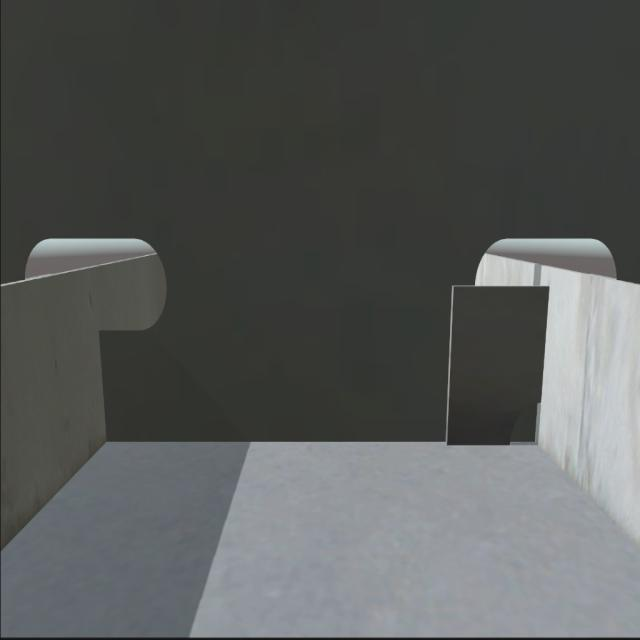fillet_yong_jeop_jang: (98, 423, 546, 450)
longi_yong_jeop_jang: (92, 328, 120, 443), (535, 280, 553, 393)
plate_CP01: (450, 282, 544, 445)
